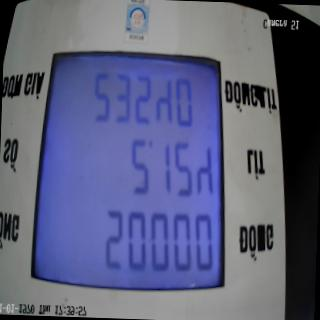screen: (27, 39, 238, 314)
